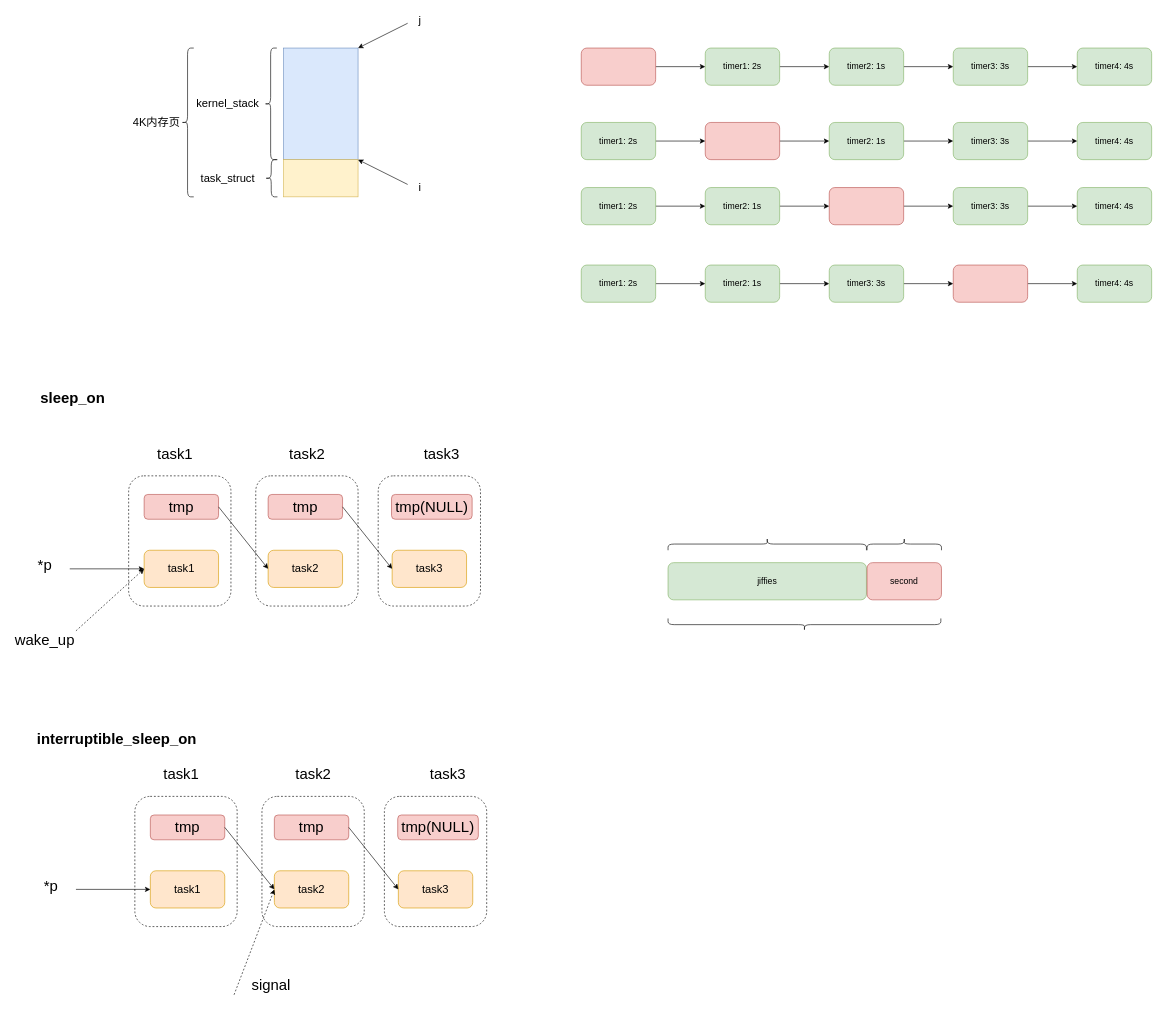
This 1163x1011 diagram has some shape labels left out. Here are the shapes that lost their labels. From the top down, the centre of each, then its label:
At point (618, 66): "timer5: 8s".
At point (742, 141): "timer5: 6s".
At point (866, 206): "timer5: 5s".
At point (990, 283): "timer5: 2s".
At point (766, 543): "系统开机依赖的滴答数".
At point (903, 543): "设置的定时时间".
At point (804, 624): "定时器到期时的滴答数".
